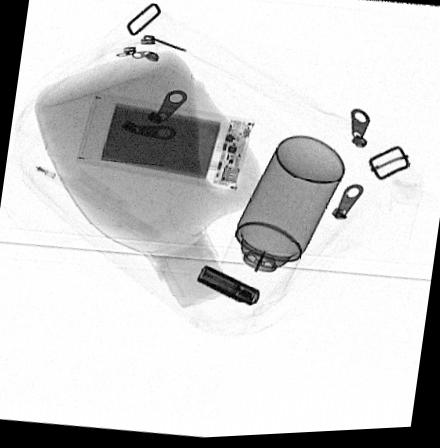Lighter: (196, 267, 260, 308)
Powerbank: (220, 139, 345, 299), (75, 92, 256, 196)
